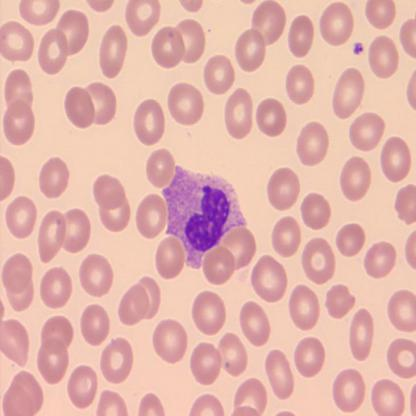Metamyelocyte: (160, 163, 248, 270)
